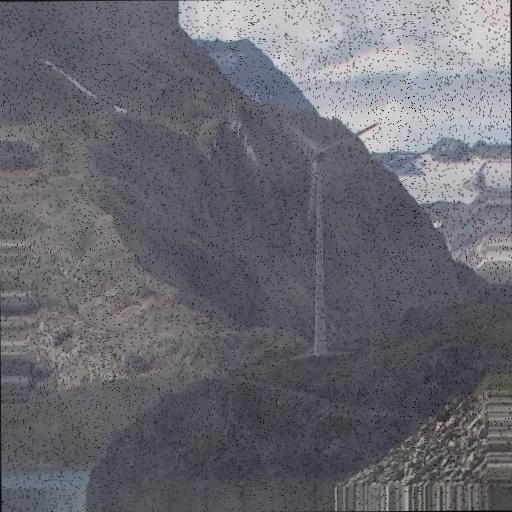wind turbine: (275, 119, 382, 358)
